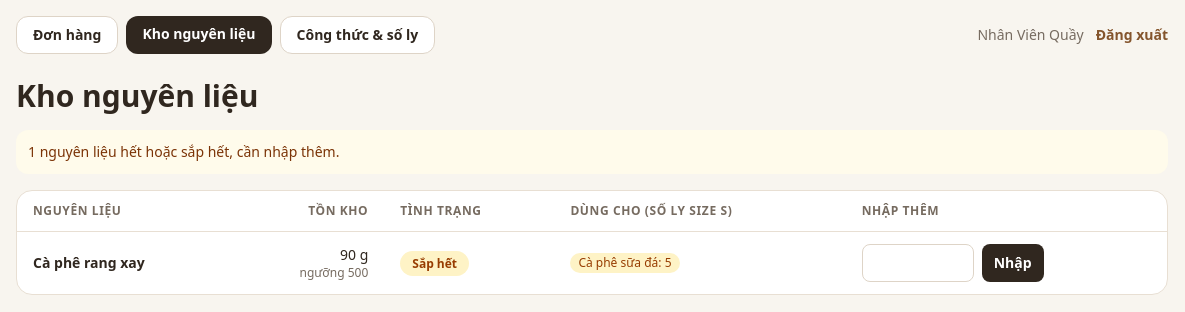
Trang công thức /staff/recipes (FR-16, FR-17) › trang kho hiện món dùng nguyên liệu kèm số ly, cập nhật sau khi nhập kho
The width and height of the screenshot is (1185, 312).
Expected: the text "Cà phê sữa đá: 5" is shown, [570,253,680,273]
Type "900" into the number field named "Số lượng nhập Cà phê rang xay" at (918, 263), box [862,244,974,282]
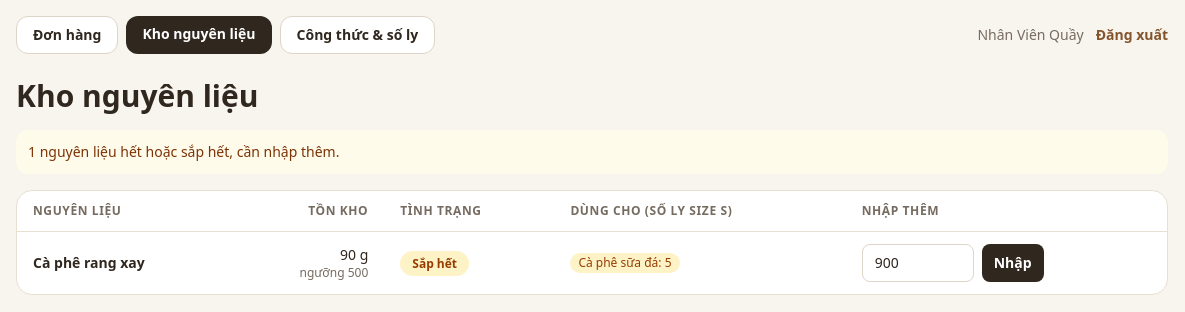
Click the button "Nhập" at (1013, 263), box [982,244,1044,282]
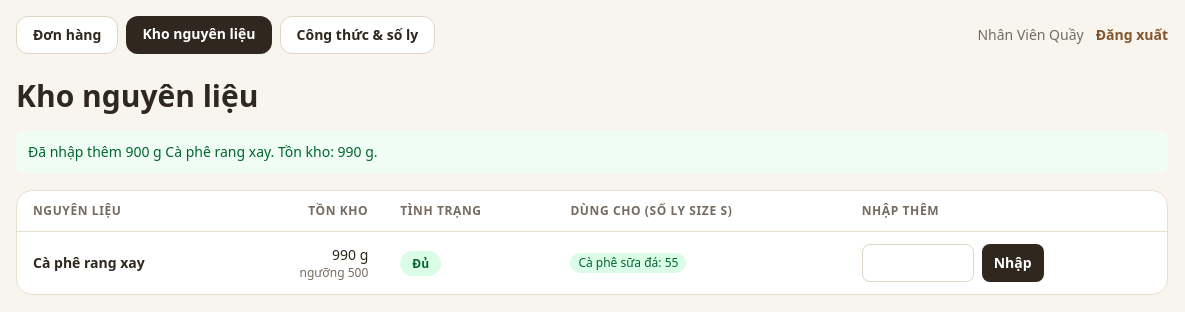
Expected: the text "Cà phê sữa đá: 55" is shown, [570,253,686,273]
